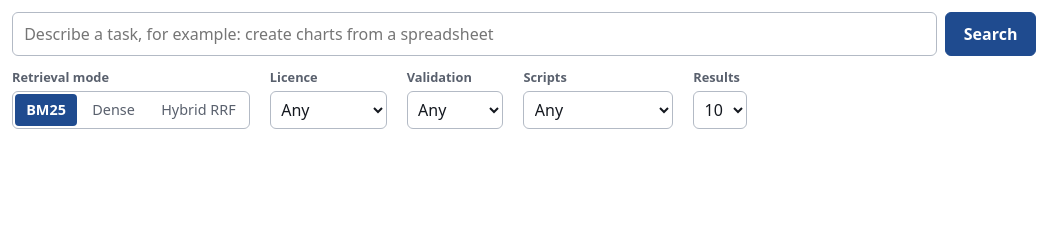
SearchView › surfaces the safe message from an API error
Type "anything" into the search field at (475, 34), box [12,12,937,56]
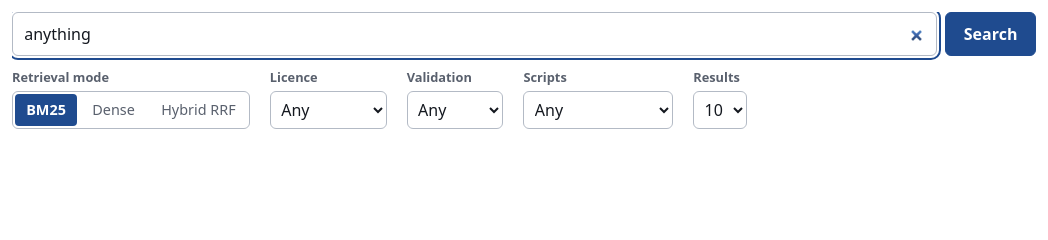
Click the button "Search" at (991, 34), box [945,12,1036,56]
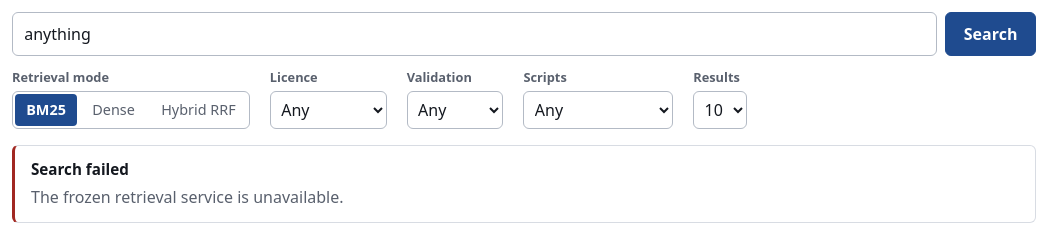
Expected: the message shows "The frozen retrieval service is unavailable.", [31,186,344,208]
